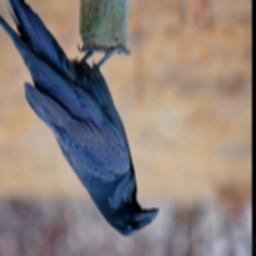Crow: (0, 0, 161, 239)
